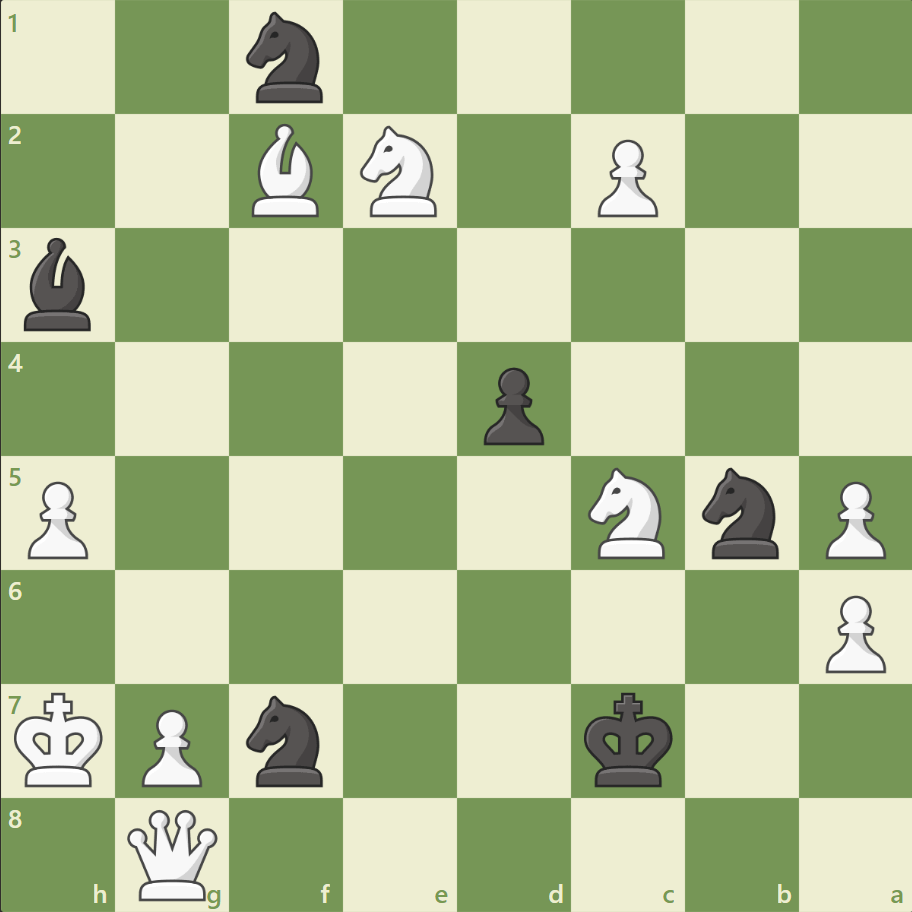B: (244, 120, 328, 222)
K: (11, 685, 111, 793)
N: (351, 121, 449, 223), (579, 461, 676, 564)
P: (133, 700, 208, 791), (20, 473, 95, 564), (815, 586, 889, 677), (815, 473, 889, 564), (588, 132, 662, 223)
Q: (124, 804, 223, 903)
b: (17, 233, 101, 336)
k: (579, 685, 679, 793)
n: (238, 688, 335, 791), (692, 461, 789, 564), (238, 7, 335, 110)
p: (474, 359, 549, 450)
